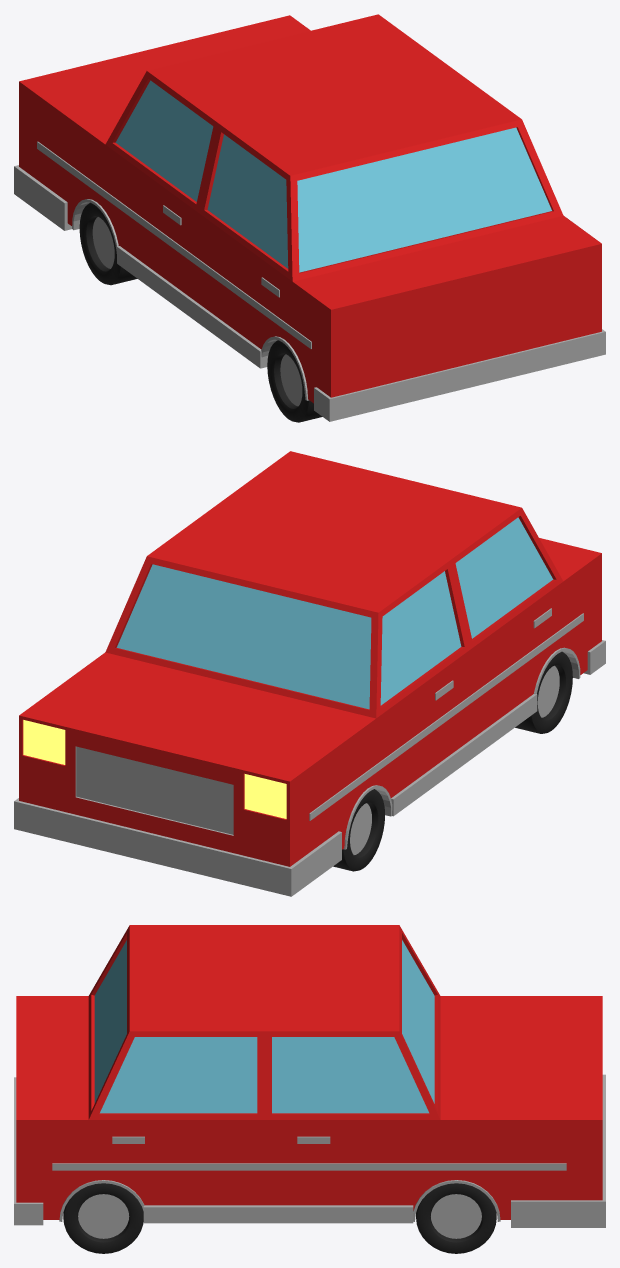
File: Car.fbx
The picture shows the model from 3 angles, top to bottom: view 1: azimuth 30°, elevation 25°; view 2: azimuth 150°, elevation 25°; view 3: azimuth 270°, elevation 25°; orthographic projection. The views are drawn at different scales.
Visible parts, largest first — view 1: Body.001, Armature, Gears; view 2: Body.001, Armature, Gears; view 3: Body.001, Armature, Gears.
Part boxes in pixels (box(x1,y1,x2,y2)): Body.001: box(19, 14, 601, 403); Armature: box(14, 141, 605, 421); Gears: box(79, 202, 322, 422); Body.001: box(19, 451, 601, 866); Armature: box(14, 608, 605, 896); Gears: box(333, 651, 572, 871); Body.001: box(16, 925, 602, 1221); Armature: box(14, 1074, 605, 1227); Gears: box(63, 1183, 496, 1253).
Size of the model in its own units: 123 by 97.44 by 242.
